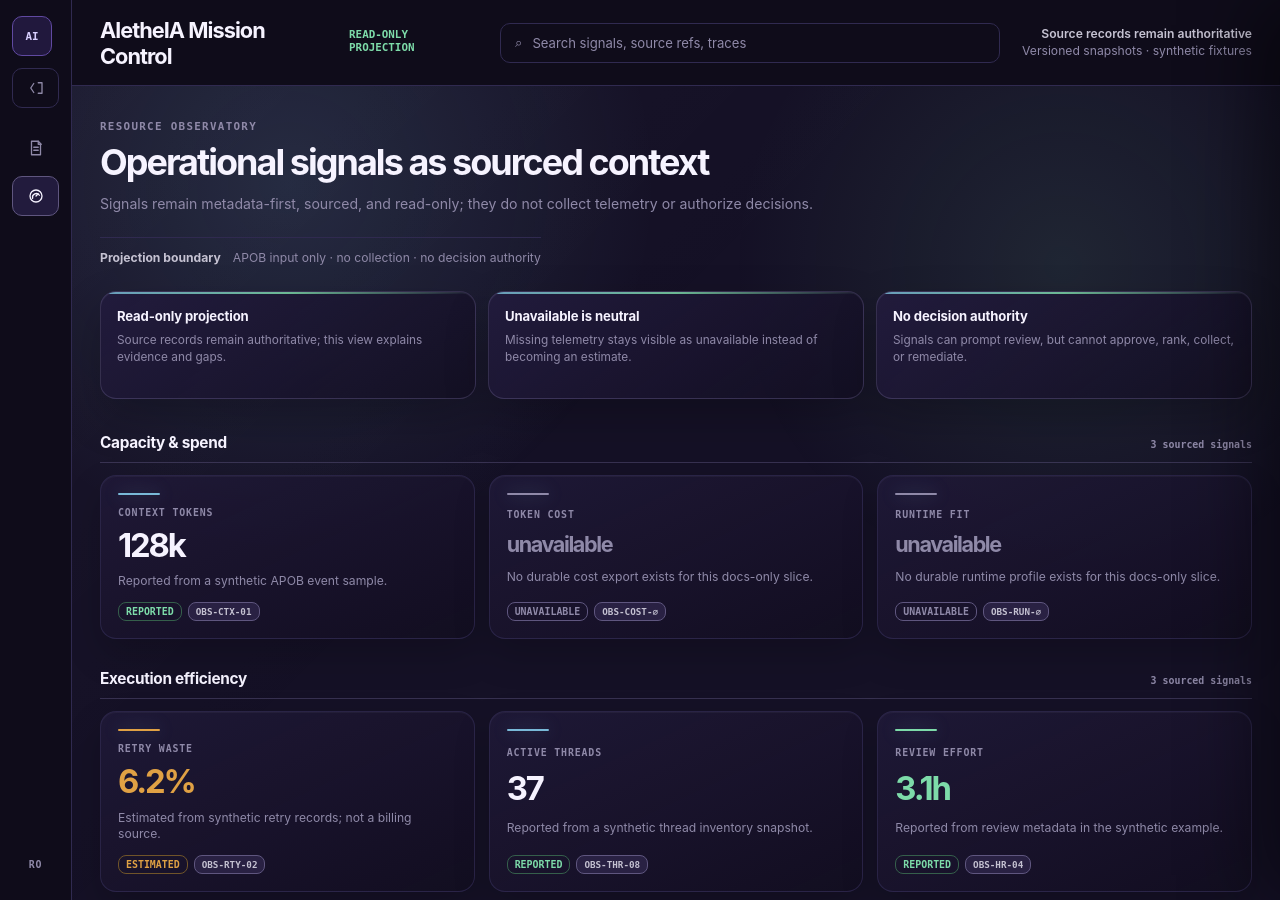
Test: Resource Observatory › represents unavailable cost telemetry without inventing a value
Click the button with aria-label "Inspect Token cost provenance".
click(541, 515)  # box [489,475,863,639]
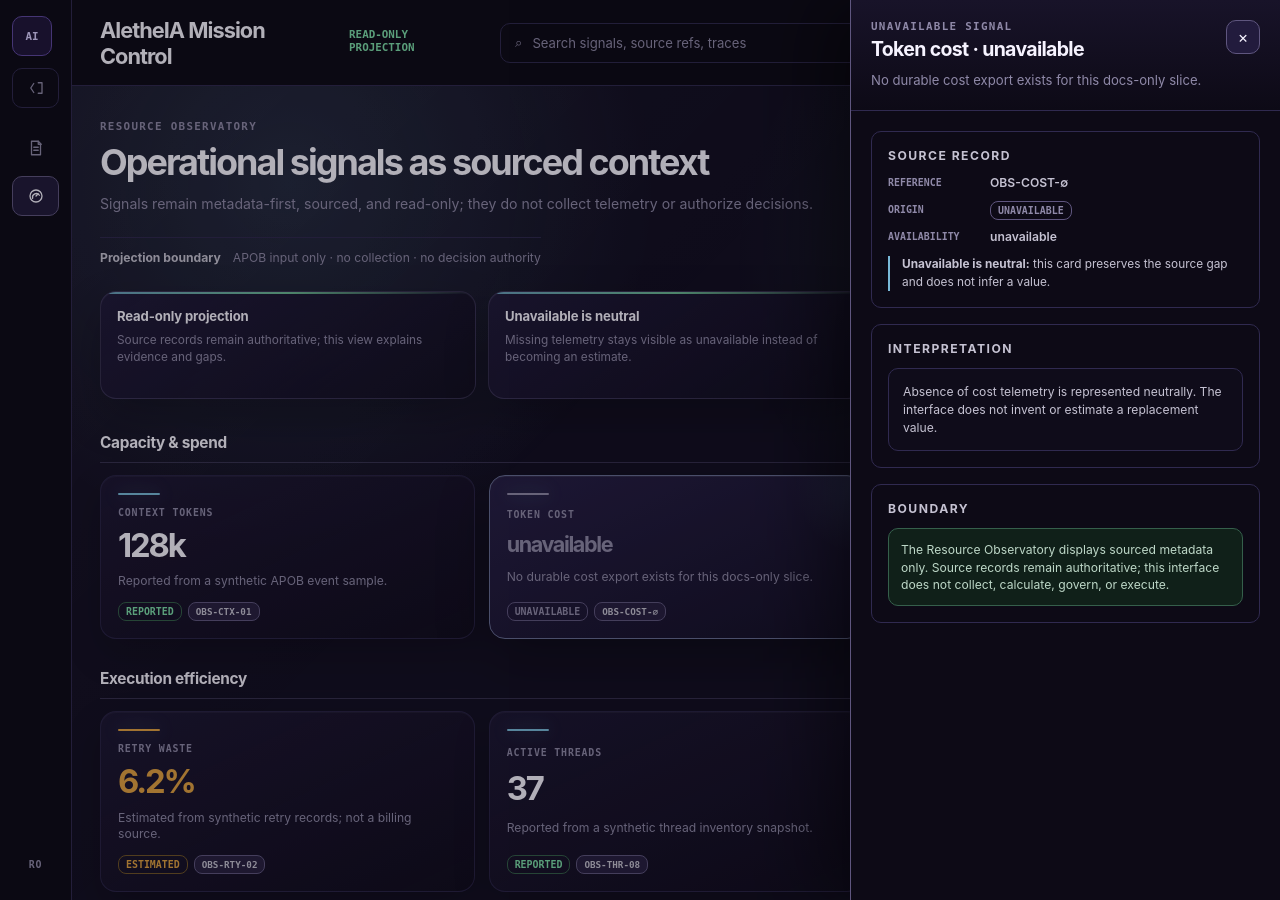
Result: the text "OBS-COST-∅" is shown at [990,175,1068,190]
Result: the text "does not invent or estimate" is shown at [903,384,1222,435]
Result: the text "unavailable" next to "Origin" is shown at [998,205,1064,216]
